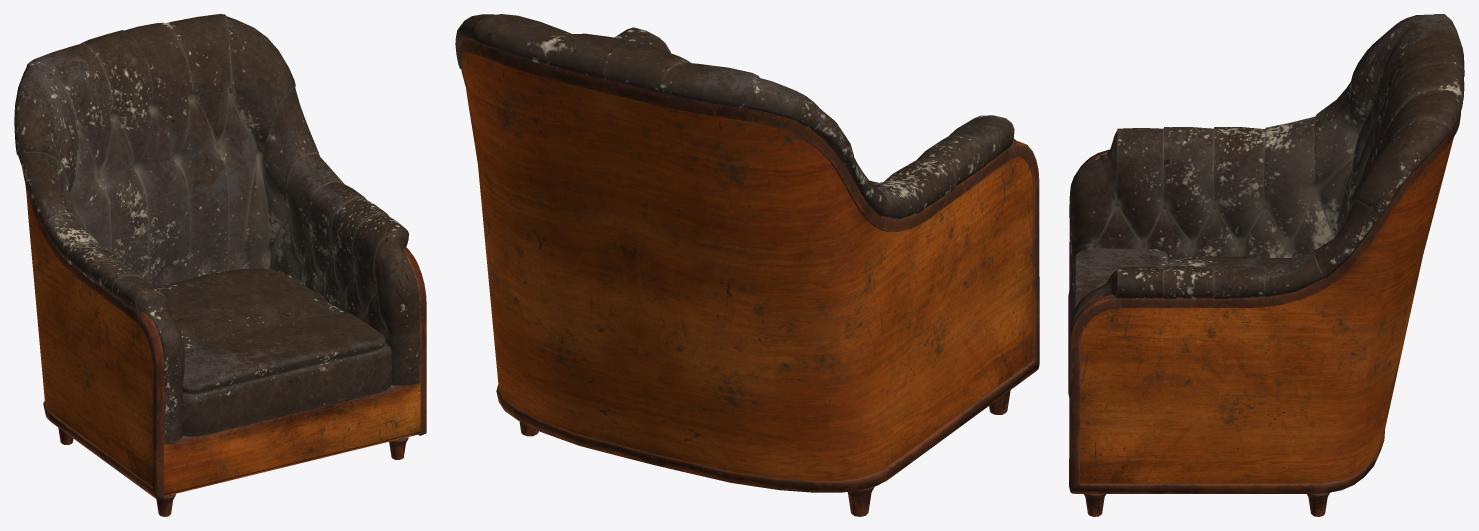
The model's file is SM_Armchair_Old.fbx.
3 views of the same model, side by side, from view 1: azimuth 30°, elevation 25°; view 2: azimuth 150°, elevation 25°; view 3: azimuth 270°, elevation 25° (orthographic). The views are drawn at different scales.
Parts seen in each view (by area): view 1: SM_Armchair_Old; view 2: SM_Armchair_Old; view 3: SM_Armchair_Old.
Boxes of the visible parts, x1,y1,x2,y2 form: SM_Armchair_Old: [14, 14, 426, 516]; SM_Armchair_Old: [455, 14, 1039, 516]; SM_Armchair_Old: [1068, 14, 1464, 516].
Size of the model in its own units: 1.07 by 1.25 by 1.16.
